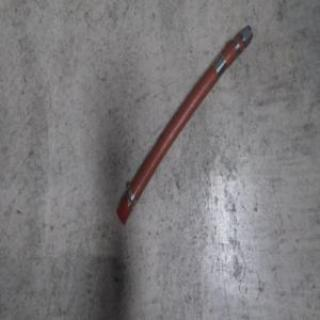Hosetrack_idkeyframe: (114, 19, 253, 228)
